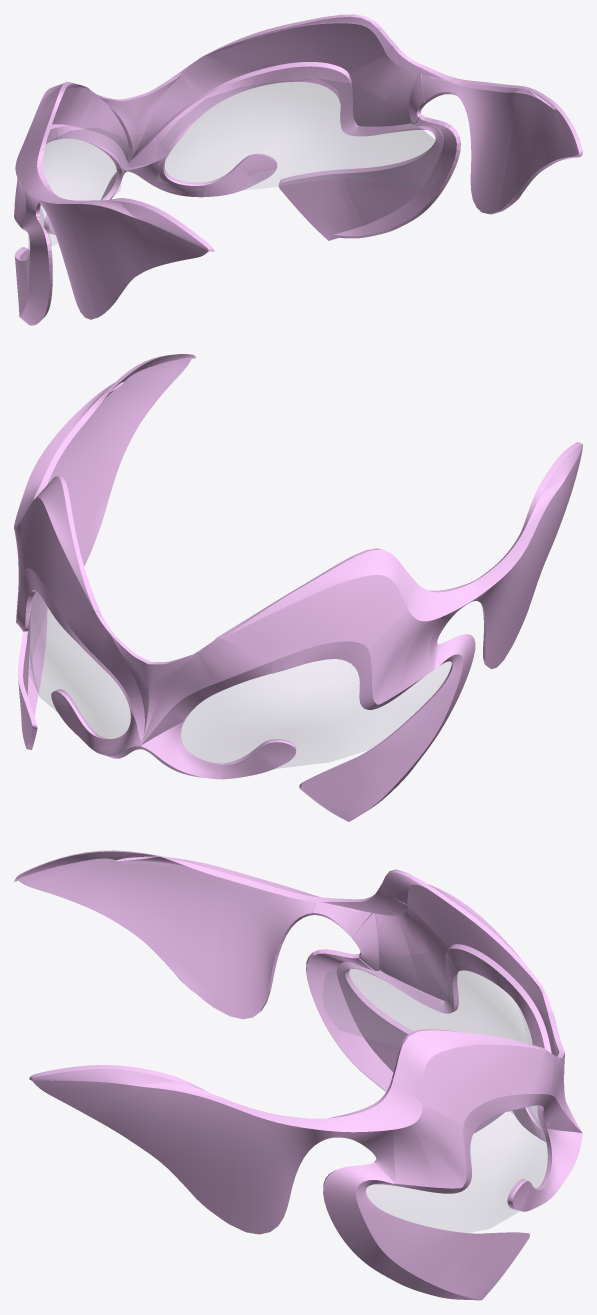
The picture shows the model from 3 angles, top to bottom: view 1: azimuth 30°, elevation 25°; view 2: azimuth 150°, elevation 25°; view 3: azimuth 270°, elevation 25°; orthographic projection. The views are drawn at different scales.
Parts seen in each view (by area): view 1: polySurface17.001; view 2: polySurface17.001; view 3: polySurface17.001.
Part boxes in pixels (x1,y1,x2,y2): polySurface17.001: (14,14,582,325); polySurface17.001: (14,354,582,821); polySurface17.001: (14,850,582,1300).
Bounding box in the file's own units: 0.1989 × 0.1016 × 0.1954.
